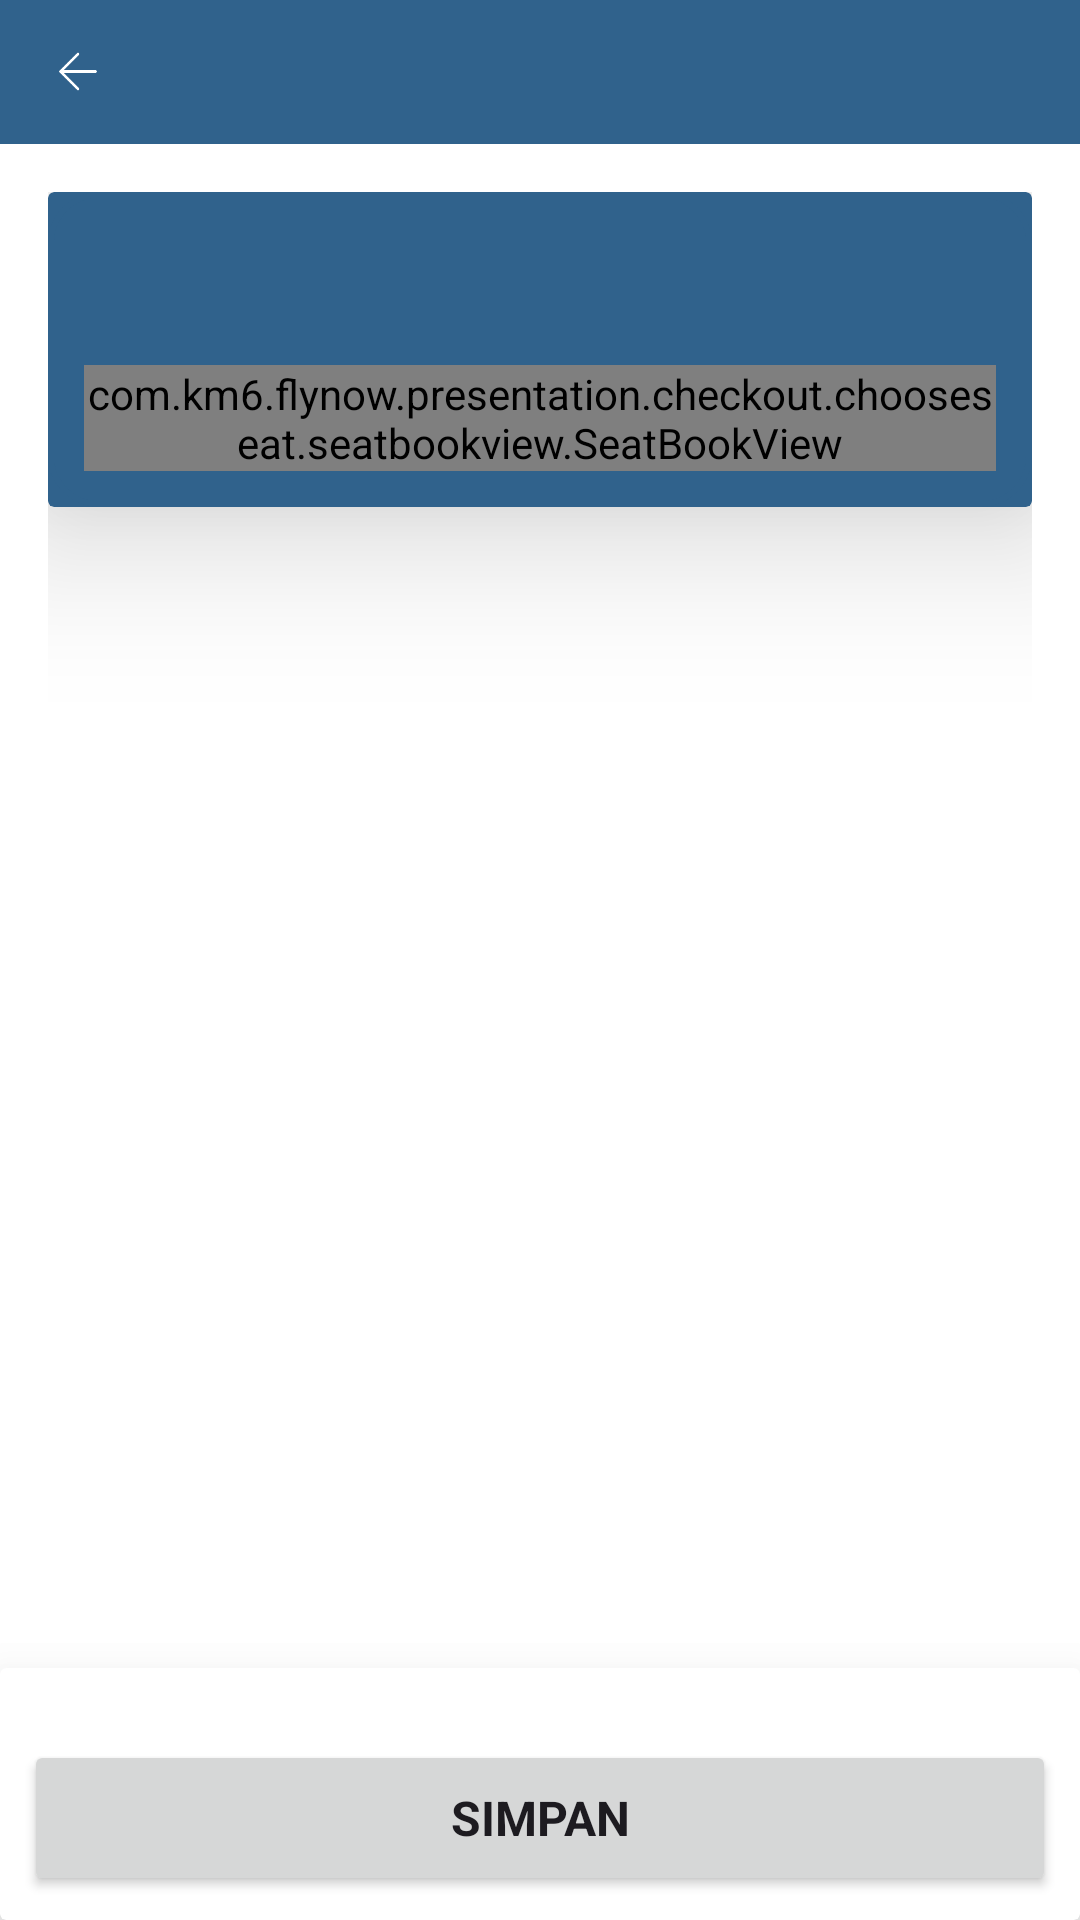

Icons on this 1080*1920 Android screen, each with the point to tap as [x,y]:
back: [78,71]
